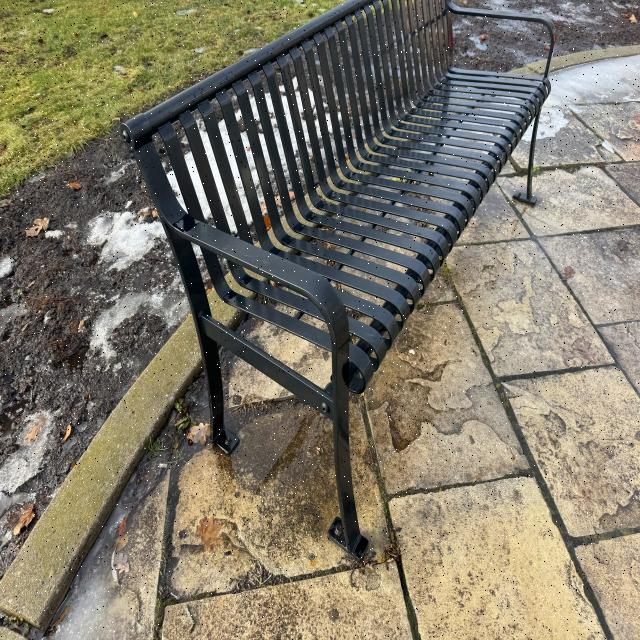Bench: (116, 77, 393, 523), (142, 11, 564, 263)
